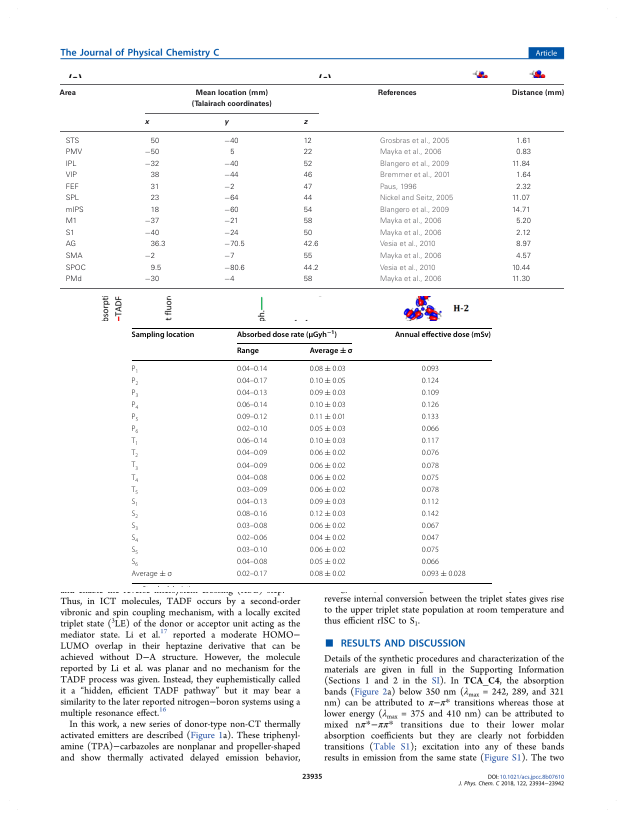borderless: (59, 83, 564, 288), (130, 326, 492, 583)
cell: (191, 89, 273, 109), (236, 329, 338, 340), (394, 330, 492, 340), (379, 194, 454, 203), (379, 172, 451, 181), (131, 330, 195, 340), (379, 137, 450, 146), (379, 160, 450, 169), (379, 206, 450, 215), (379, 229, 442, 238), (379, 252, 442, 261), (379, 275, 442, 284), (379, 241, 436, 250), (379, 264, 436, 273), (379, 149, 442, 157), (379, 218, 442, 226), (309, 346, 353, 356), (511, 89, 565, 97), (421, 570, 467, 579), (130, 570, 173, 579), (309, 364, 347, 374), (309, 376, 347, 386), (309, 485, 347, 495), (309, 497, 347, 507), (379, 183, 418, 192), (309, 389, 347, 398), (309, 401, 347, 410), (309, 413, 347, 422), (309, 425, 347, 434), (309, 437, 347, 446), (309, 449, 347, 458), (309, 461, 347, 470), (309, 473, 347, 482), (309, 510, 347, 519), (309, 522, 347, 531), (309, 534, 347, 543), (309, 546, 347, 555), (309, 558, 347, 567), (309, 570, 347, 579), (377, 89, 418, 97), (236, 364, 268, 374), (236, 376, 268, 386), (236, 485, 268, 495), (236, 497, 268, 507), (236, 389, 268, 398), (236, 401, 268, 410), (236, 413, 268, 422), (236, 425, 268, 434), (236, 437, 268, 446), (236, 449, 268, 458), (236, 461, 268, 470), (236, 473, 268, 482), (236, 510, 268, 519), (236, 522, 268, 531), (236, 534, 268, 543), (236, 546, 268, 555), (236, 558, 268, 567), (236, 570, 268, 579), (236, 346, 260, 356), (223, 241, 246, 250), (223, 264, 246, 273), (65, 264, 87, 273), (421, 364, 440, 374), (421, 376, 440, 386), (421, 485, 440, 495), (421, 497, 440, 507), (511, 160, 531, 169), (511, 194, 531, 203), (65, 206, 85, 215), (511, 206, 531, 215), (511, 264, 531, 273), (511, 275, 531, 284), (421, 389, 440, 398), (421, 401, 440, 410), (421, 413, 440, 422), (421, 425, 440, 434), (421, 437, 440, 446), (421, 449, 440, 458), (421, 461, 440, 470), (421, 473, 440, 482), (421, 510, 440, 519), (421, 522, 440, 531), (421, 534, 440, 543), (421, 546, 440, 555), (421, 558, 440, 567), (65, 252, 83, 261), (65, 275, 83, 284), (223, 137, 240, 146), (515, 137, 532, 146), (223, 160, 240, 169), (223, 172, 240, 181), (515, 172, 532, 181), (515, 183, 532, 192), (223, 194, 240, 203), (223, 206, 240, 215), (223, 218, 240, 227), (223, 229, 240, 238), (515, 241, 532, 250), (515, 252, 532, 261), (58, 89, 77, 97), (65, 149, 83, 157), (144, 160, 160, 169), (144, 218, 160, 227), (144, 229, 160, 238), (515, 229, 531, 238), (150, 241, 166, 250), (303, 241, 319, 250), (303, 264, 319, 273), (144, 275, 160, 284), (515, 149, 532, 157), (515, 218, 532, 226), (65, 137, 80, 146), (65, 183, 80, 192), (65, 194, 80, 203), (144, 149, 160, 157), (65, 160, 78, 169), (65, 172, 78, 181), (65, 218, 78, 227), (223, 183, 235, 192), (65, 241, 77, 250), (144, 252, 156, 261), (223, 252, 235, 261), (150, 264, 162, 273), (223, 275, 235, 284), (130, 437, 139, 448), (130, 449, 139, 460), (130, 461, 139, 472), (130, 473, 139, 484), (130, 485, 139, 496), (130, 497, 139, 508), (130, 546, 139, 557), (130, 558, 139, 569), (150, 137, 160, 146), (303, 137, 313, 146), (303, 160, 313, 169), (150, 172, 160, 181), (303, 172, 313, 181), (150, 183, 160, 192), (303, 183, 313, 192), (150, 194, 160, 203), (303, 194, 313, 203), (150, 206, 160, 215), (303, 206, 313, 215), (303, 218, 313, 227), (65, 229, 75, 238), (303, 229, 313, 238), (303, 252, 313, 261), (303, 275, 313, 284), (130, 510, 139, 520), (130, 522, 139, 532), (130, 534, 139, 544), (131, 364, 139, 375), (131, 376, 139, 387), (131, 425, 139, 436), (303, 149, 313, 157), (131, 389, 139, 399), (131, 401, 139, 411), (131, 413, 139, 423), (229, 149, 235, 157), (144, 120, 150, 127), (223, 120, 229, 127), (303, 120, 308, 127)
